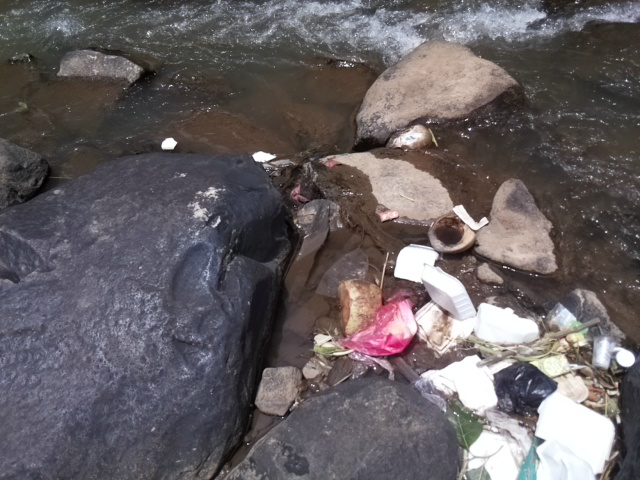Sampah_Plastik: (335, 290, 418, 357), (491, 361, 560, 418)
Sampah_Styrofoam: (535, 393, 620, 480), (451, 422, 532, 480), (427, 354, 500, 412), (420, 261, 479, 325), (473, 300, 541, 346), (393, 240, 438, 284), (452, 200, 489, 232), (253, 148, 277, 162), (161, 135, 177, 150)
